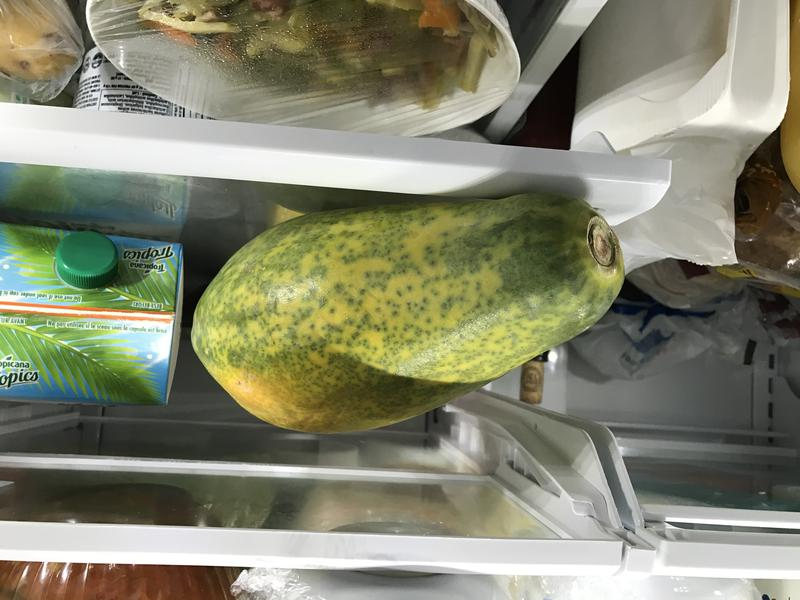papaya: (178, 180, 642, 453)
